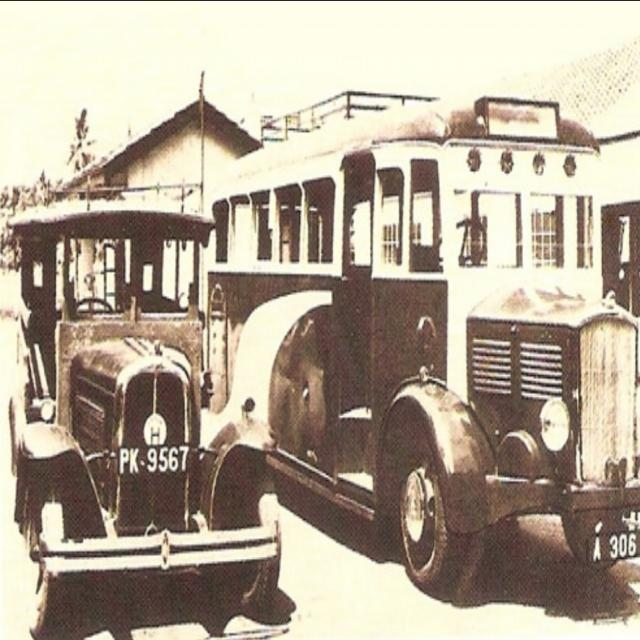car-plate: (114, 438, 192, 478), (590, 514, 640, 566)
